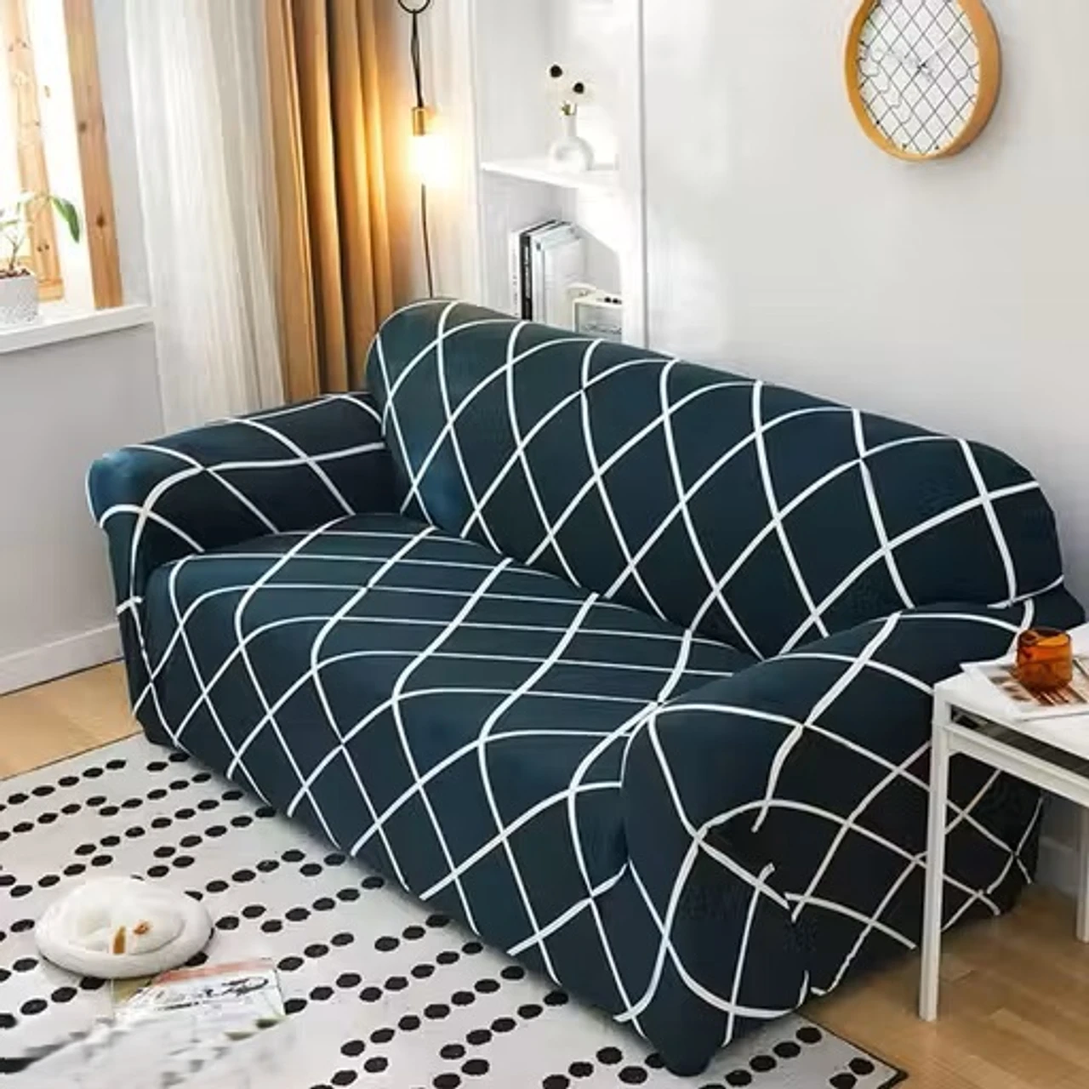3seatersofa: (89, 300, 1082, 1074)
backrest: (368, 301, 1061, 657)
leftarmrest: (605, 588, 1080, 1072), (942, 768, 1038, 922)
leg: (661, 1052, 710, 1075)
rightarmrest: (88, 392, 393, 743)
seat: (145, 514, 750, 949)
